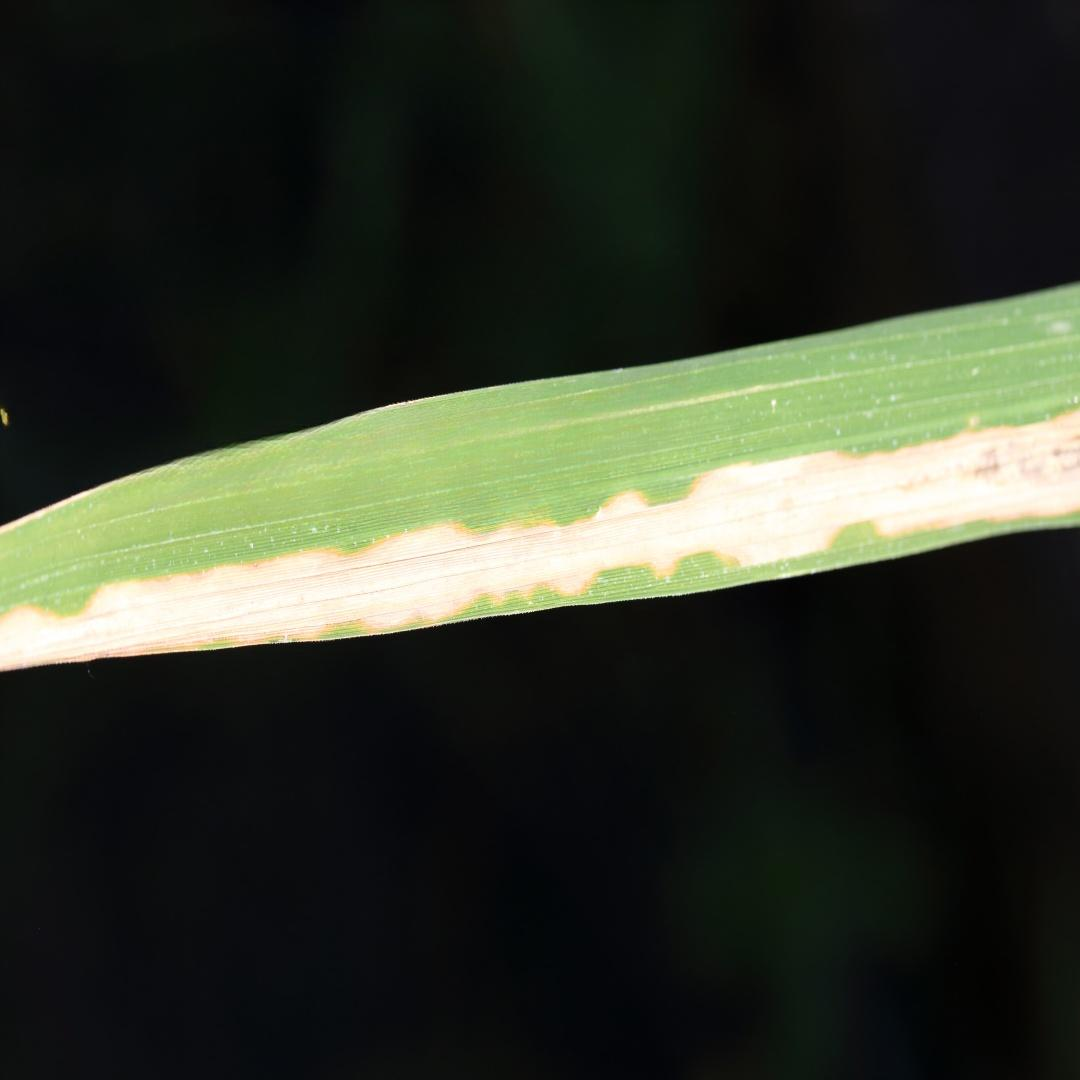BLB: (1, 408, 1079, 669)
LEAF: (0, 284, 1079, 671)
